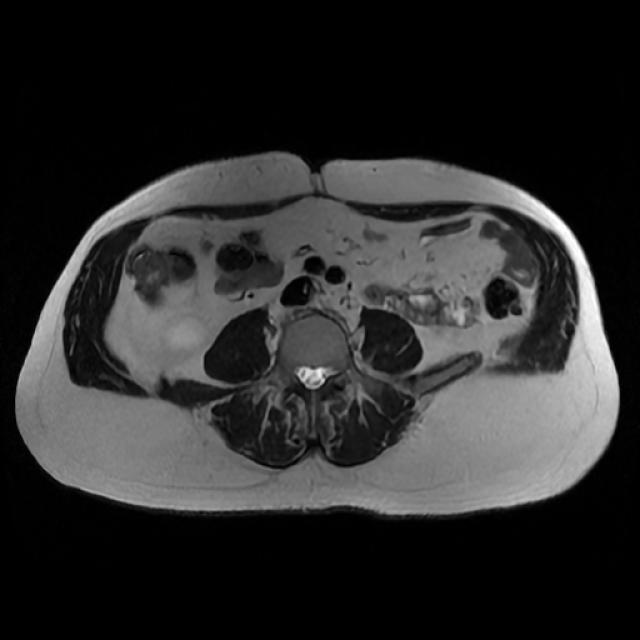sag: (135, 282, 206, 364)
